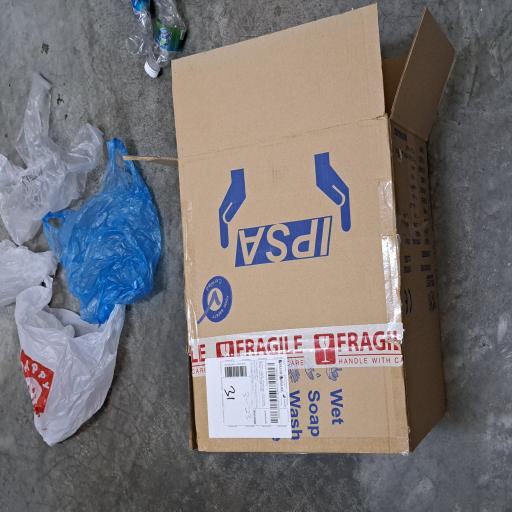cardboard: (31, 167, 383, 512)
plastic bag: (141, 61, 279, 213), (201, 0, 325, 138), (48, 22, 162, 168), (147, 0, 208, 80)
plastic bottle: (331, 192, 384, 244), (350, 164, 384, 200)
plastic bottle cap: (326, 186, 337, 212)
